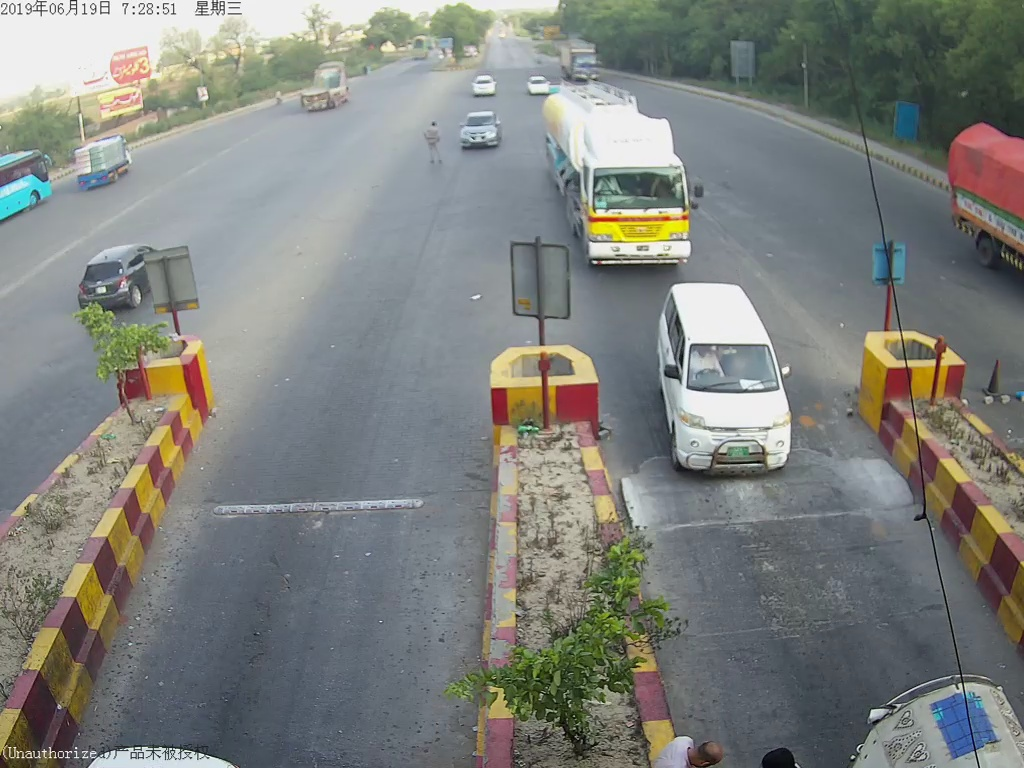Cat-1: (657, 286, 800, 479), (457, 107, 502, 148)
Cat-5: (569, 79, 712, 260)
